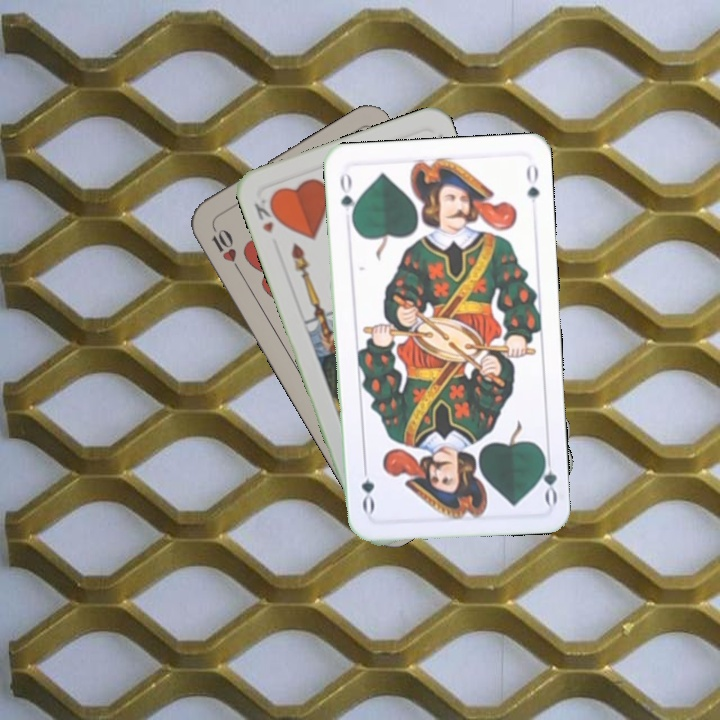GO: (533, 447, 560, 507), (336, 169, 359, 227)
H10: (207, 221, 244, 275)
HK: (250, 191, 282, 236)
